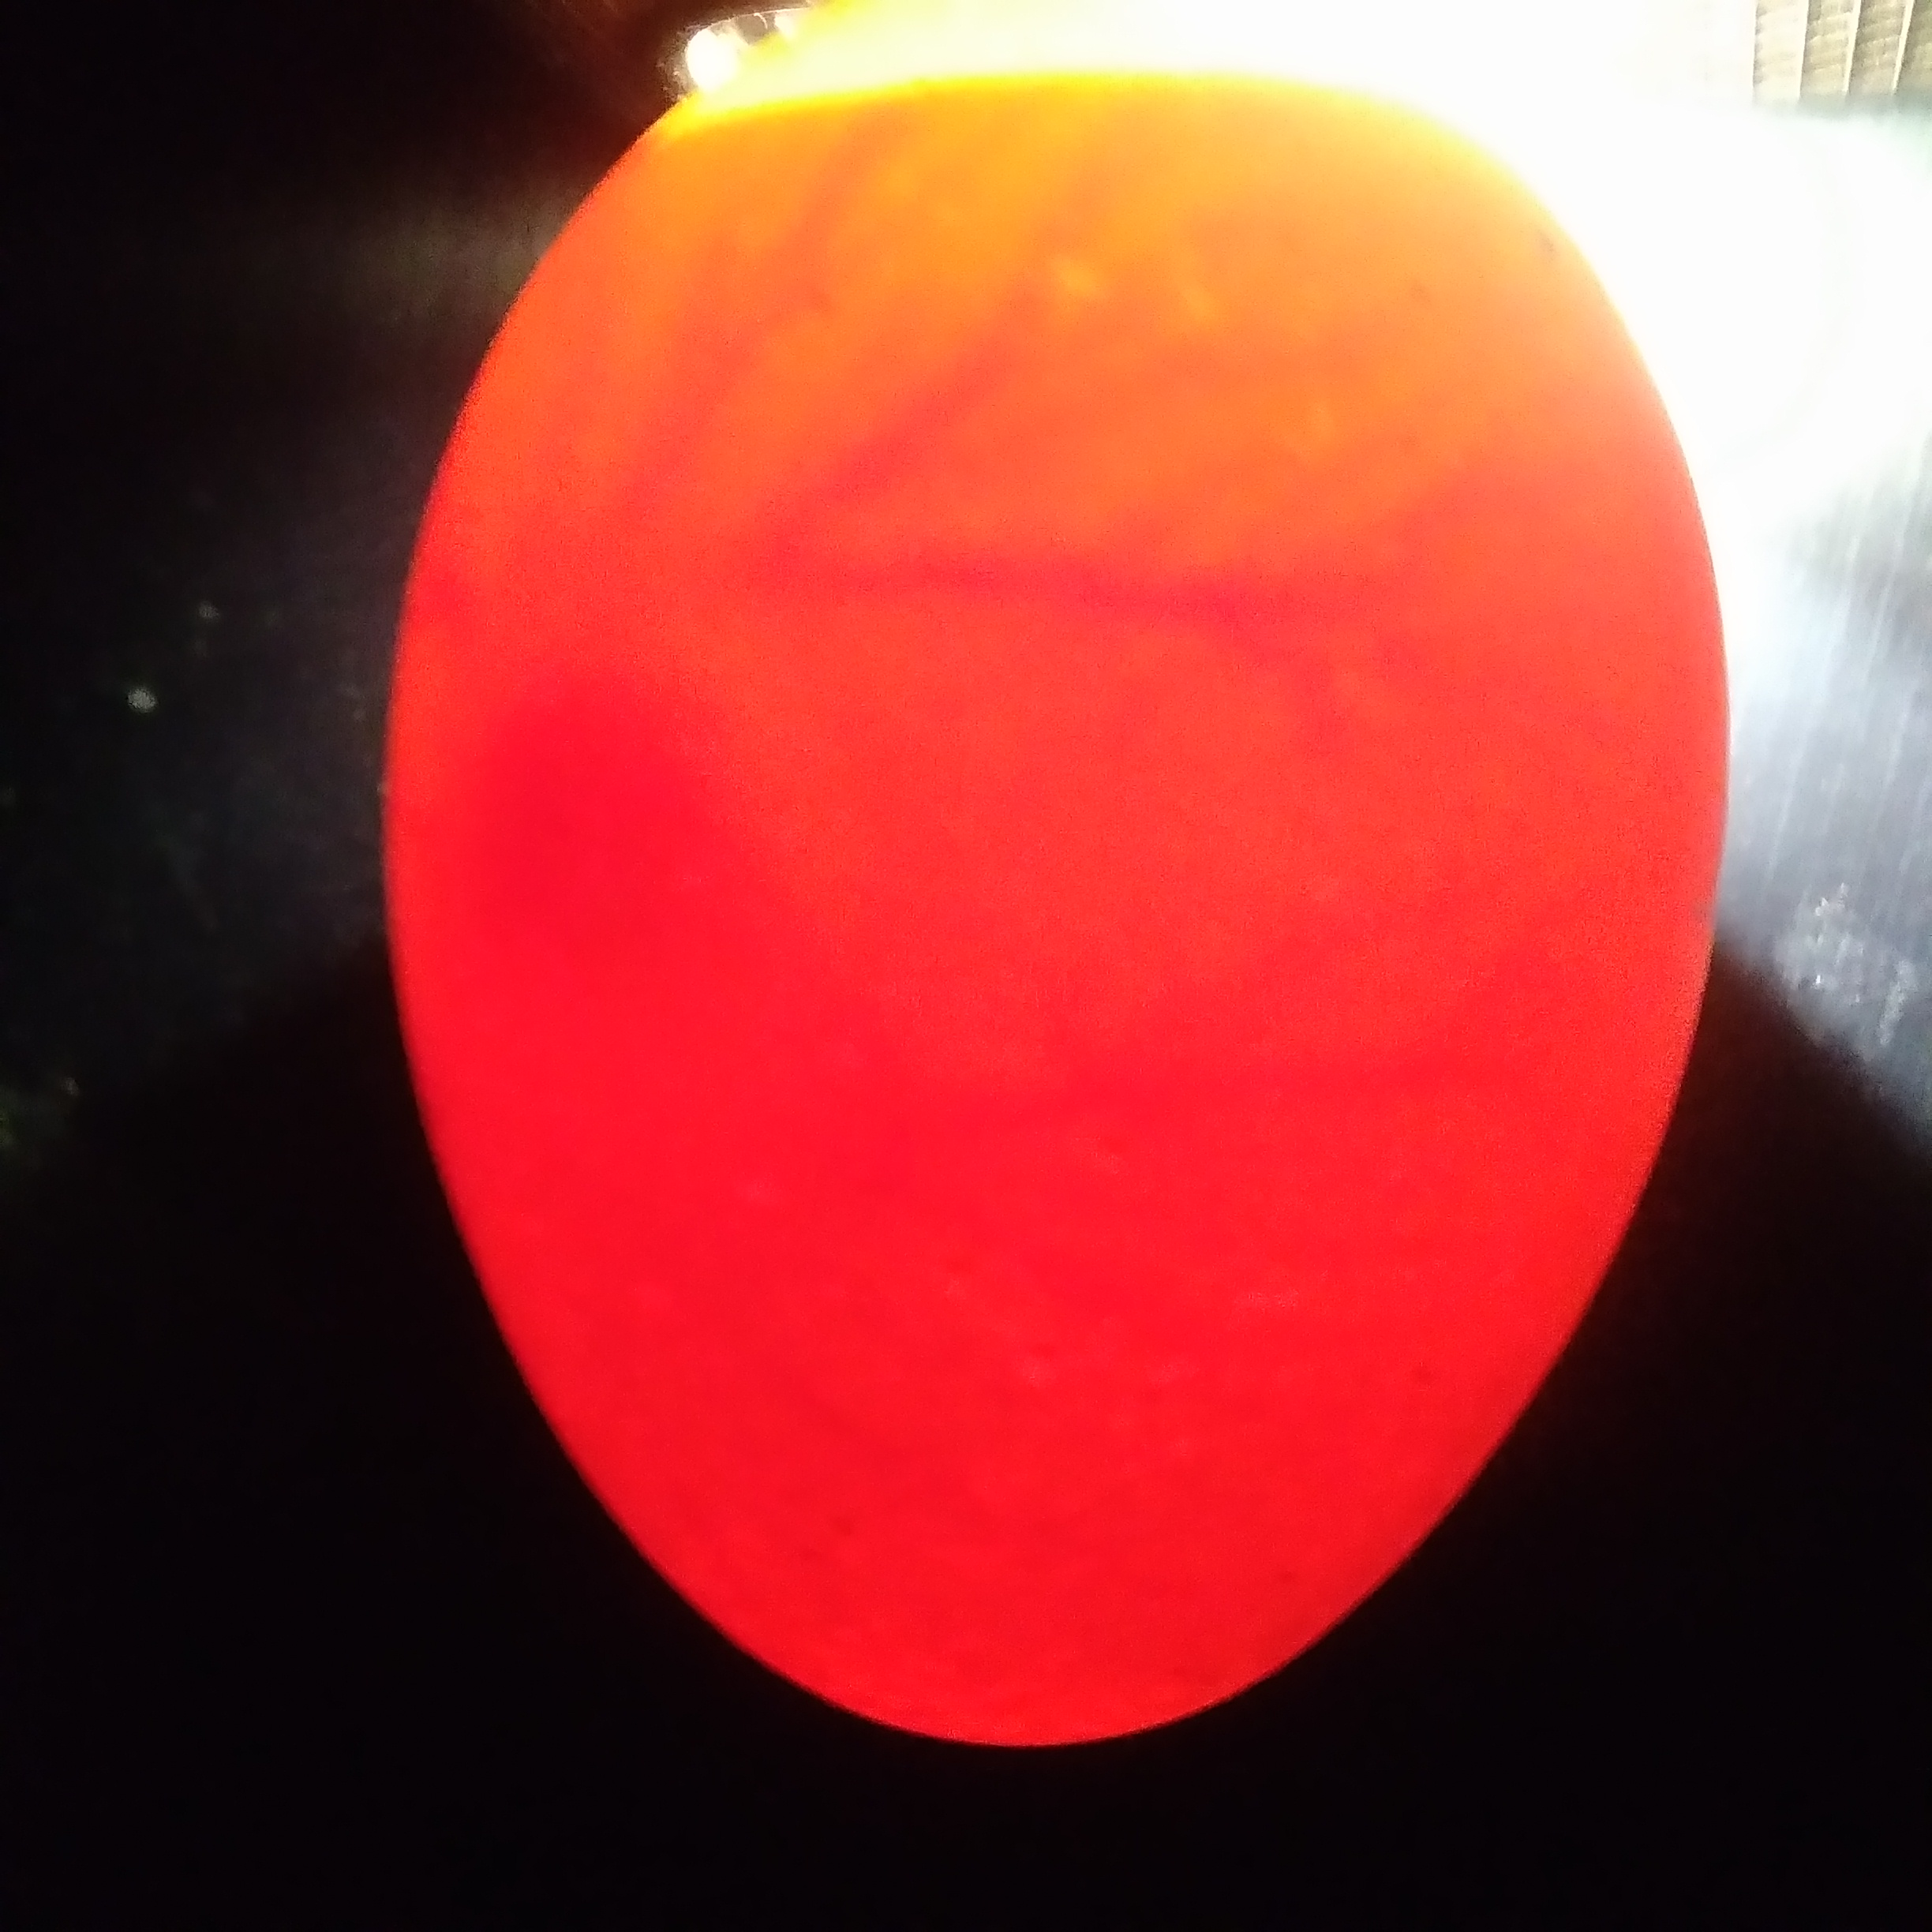bloodcell: (715, 180, 1258, 564)
